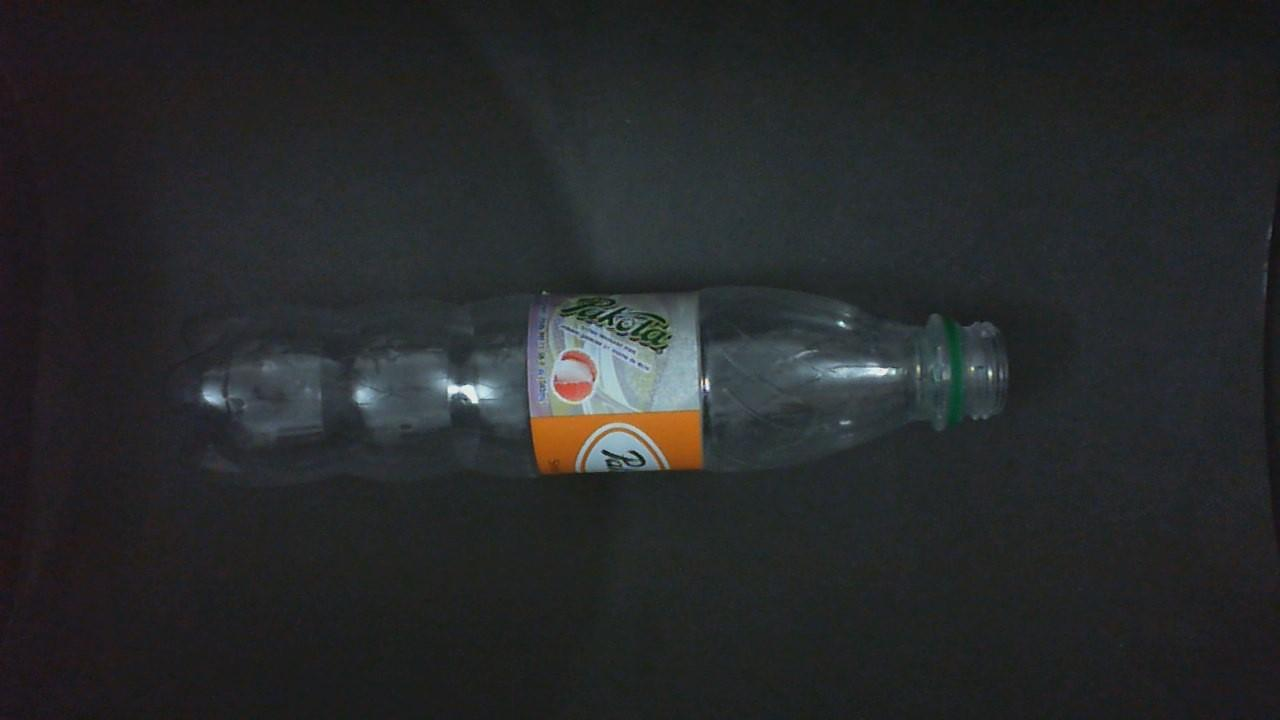Bottle: (172, 288, 1008, 484), (177, 287, 1008, 483)
